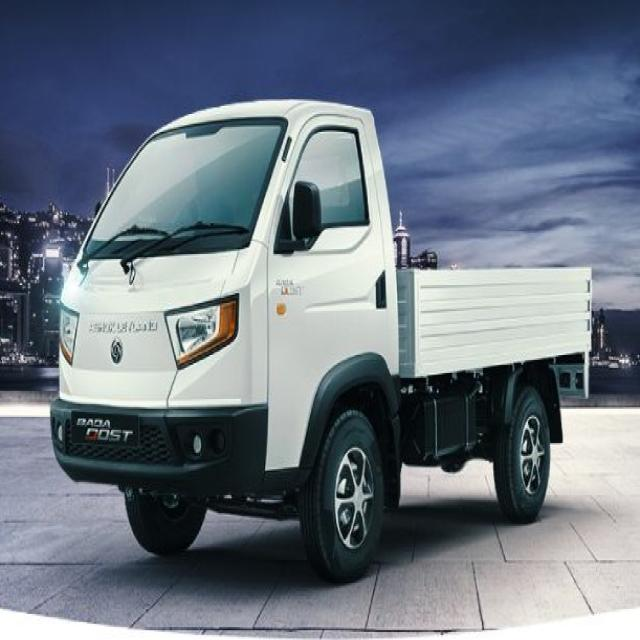truck: (51, 101, 591, 581)
